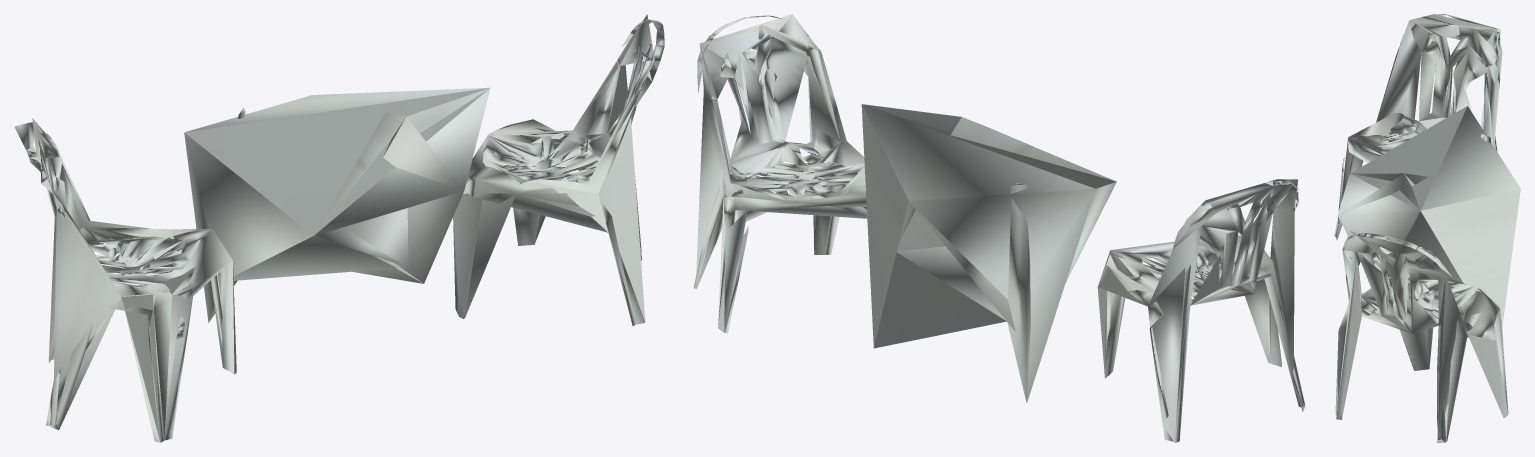
File: fv_table_chairs.glb
3 renders of one model, left to right at view 1: azimuth 30°, elevation 25°; view 2: azimuth 150°, elevation 25°; view 3: azimuth 270°, elevation 25°, orthographic. The views are drawn at different scales.
Parts seen in each view (by area): view 1: fv_table_chairs; view 2: fv_table_chairs; view 3: fv_table_chairs.
Boxes of the visible parts, x1,y1,x2,y2 form: fv_table_chairs: [14, 14, 664, 442]; fv_table_chairs: [693, 14, 1305, 442]; fv_table_chairs: [1334, 14, 1520, 442].
Size of the model in its own units: 1.39 by 0.558 by 0.4702.
Materials: 1 (1 with a texture image).
